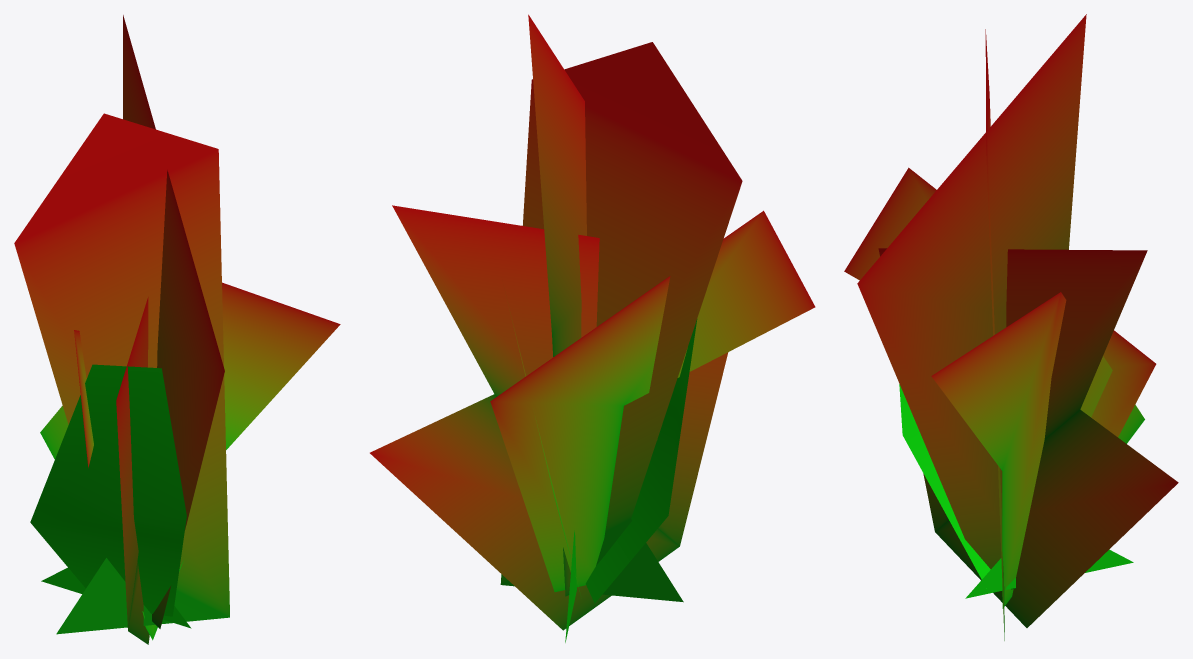
Rendered from Desert Grass_LOD1_Var1_scvhd.fbx.
3 renders of one model, left to right at view 1: azimuth 30°, elevation 25°; view 2: azimuth 150°, elevation 25°; view 3: azimuth 270°, elevation 25°, orthographic. The views are drawn at different scales.
Visible parts, largest first — view 1: _3d66_Var1_LOD1; view 2: _3d66_Var1_LOD1; view 3: _3d66_Var1_LOD1.
Part boxes in pixels (left/top/right/bottom): _3d66_Var1_LOD1: left=14, top=15, right=340, bottom=644; _3d66_Var1_LOD1: left=370, top=14, right=815, bottom=642; _3d66_Var1_LOD1: left=844, top=14, right=1178, bottom=640.
Bounding box in the file's own units: 20.18 × 39.41 × 19.39.
